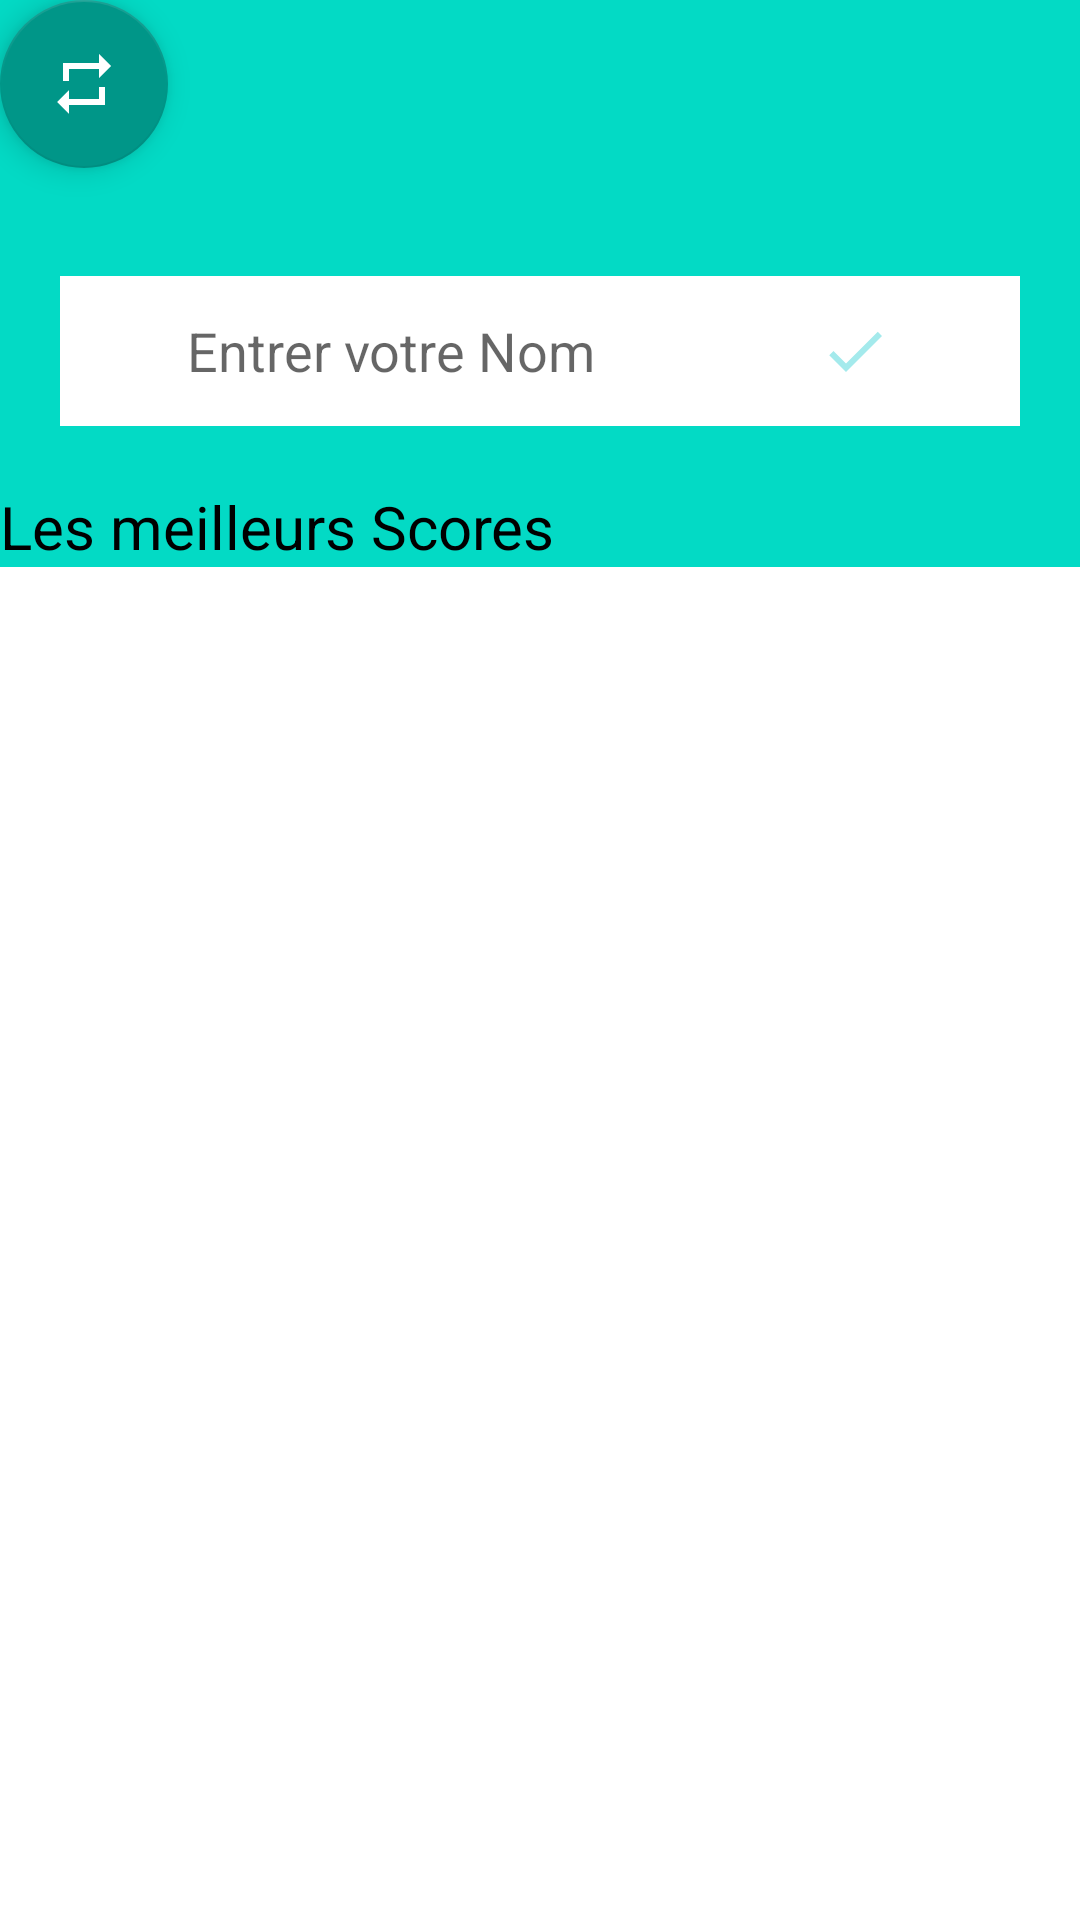

Named icons in this screenshot (1080*1920) and their centers, (x,y):
check: (855,352)
